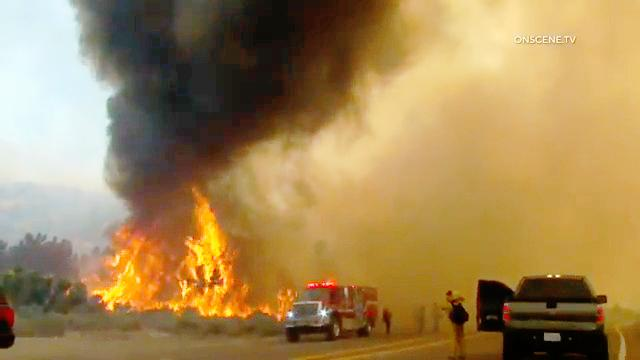fire: (90, 191, 288, 322)
smoke: (88, 2, 348, 196)
